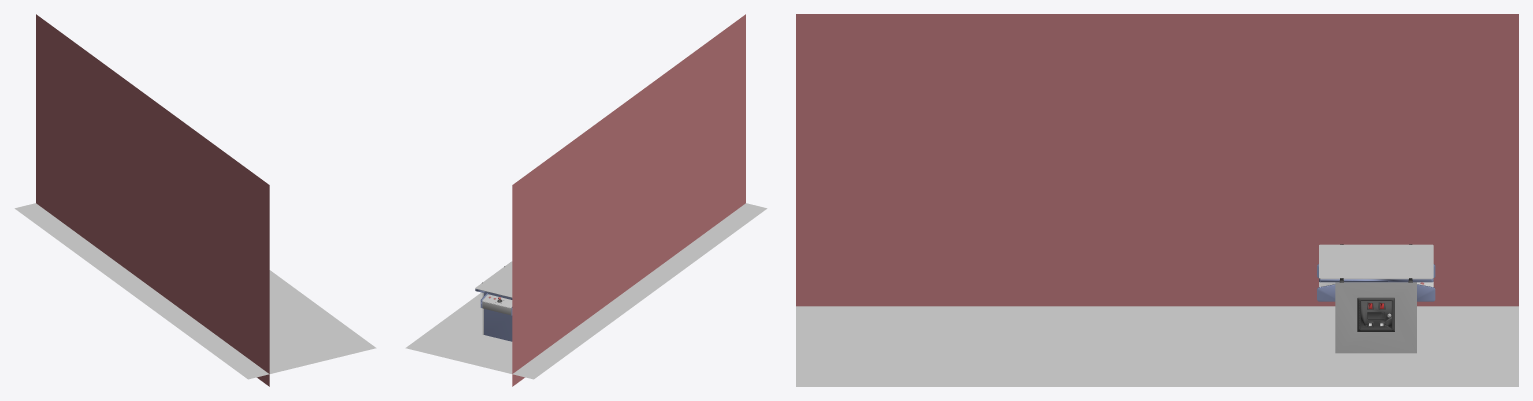
The model's file is arcademachine2.fbx.
3 renders of one model, left to right at view 1: azimuth 30°, elevation 25°; view 2: azimuth 150°, elevation 25°; view 3: azimuth 270°, elevation 25°, orthographic. The views are drawn at different scales.
Visible parts, largest first — view 1: Tường, S_n; view 2: Tường, S_n, Mặt_Chơi_000, Mặt_Ki__n; view 3: Tường, S_n, Mật_Phải_Thu_Ti__n, Mặt_Ki__n, Cửa_Ti__n.
Part boxes in pixels (box(x1,y1,x2,y2)): Tường: box(36, 14, 269, 386); S_n: box(14, 203, 376, 379); Tường: box(512, 14, 745, 386); S_n: box(405, 203, 767, 379); Mặt_Chơi_000: box(484, 291, 512, 341); Mặt_Ki__n: box(475, 261, 512, 297); Tường: box(796, 14, 1518, 306); S_n: box(796, 306, 1518, 386); Mật_Phải_Thu_Ti__n: box(1335, 282, 1416, 353); Mặt_Ki__n: box(1319, 244, 1433, 279); Cửa_Ti__n: box(1359, 300, 1392, 329).
Bounding box in the file's own units: 2 × 3 × 6.3.
